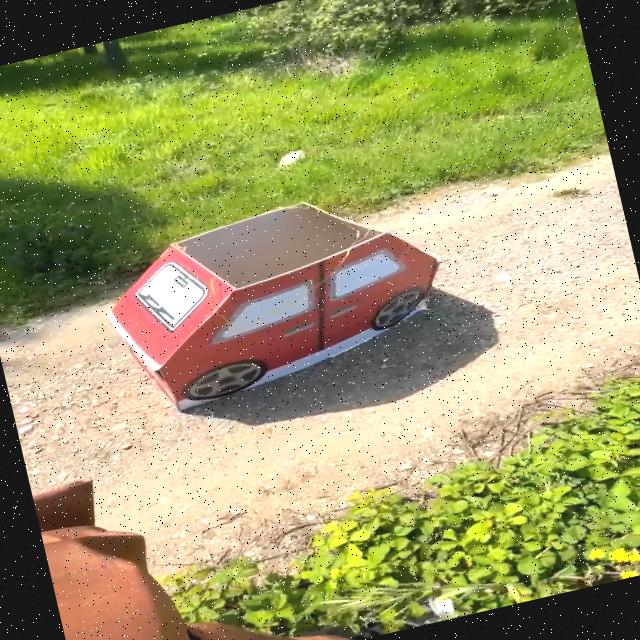red_car: (60, 162, 481, 448)
